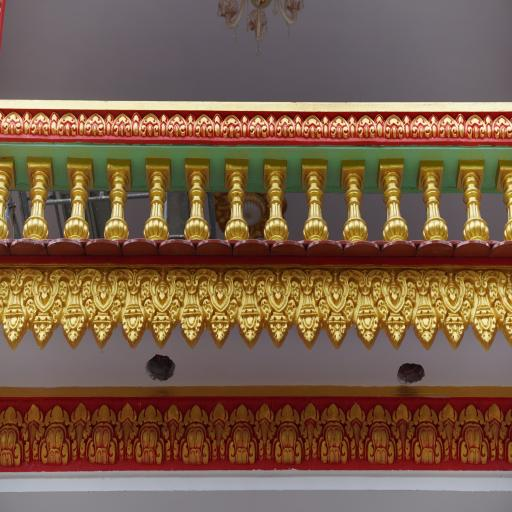la: (77, 267, 134, 350), (339, 271, 398, 348), (370, 268, 425, 350), (22, 268, 74, 353), (136, 269, 192, 345), (398, 265, 449, 348), (254, 270, 308, 348), (195, 268, 247, 348), (283, 269, 335, 348), (426, 271, 480, 347), (311, 268, 362, 348), (110, 266, 158, 350), (228, 267, 278, 346), (0, 263, 42, 354), (170, 268, 219, 346), (52, 269, 100, 347), (458, 266, 502, 349), (413, 402, 448, 466), (179, 401, 215, 463), (134, 402, 169, 464), (90, 402, 124, 464), (364, 403, 398, 464), (457, 401, 490, 463), (319, 401, 352, 461), (274, 403, 304, 463), (1, 400, 27, 469), (45, 404, 74, 464), (228, 403, 257, 461), (493, 271, 512, 347), (346, 400, 368, 460), (255, 400, 277, 459), (300, 401, 322, 458), (395, 397, 414, 460), (210, 399, 229, 459), (24, 401, 42, 463), (119, 398, 137, 458), (485, 401, 504, 457), (72, 400, 89, 459), (441, 401, 459, 456), (166, 402, 182, 457), (0, 111, 24, 137), (465, 112, 487, 139), (86, 111, 107, 138), (438, 111, 458, 138), (223, 111, 242, 139), (302, 113, 323, 138), (167, 112, 187, 138), (493, 112, 512, 139), (503, 404, 512, 460), (412, 112, 430, 138), (195, 115, 215, 138), (248, 113, 268, 136), (113, 113, 132, 137), (142, 111, 161, 134), (32, 110, 50, 134), (330, 115, 350, 136), (274, 117, 296, 136), (358, 114, 377, 136), (386, 113, 402, 139), (61, 114, 78, 137), (428, 112, 438, 139), (347, 114, 358, 138), (456, 112, 466, 138), (484, 113, 494, 138), (22, 112, 34, 132), (374, 113, 384, 137), (402, 112, 411, 138), (50, 110, 60, 133), (186, 113, 196, 136), (160, 109, 168, 135), (213, 113, 222, 136), (133, 113, 141, 136), (322, 115, 330, 137), (106, 115, 114, 135), (296, 111, 302, 137), (79, 111, 85, 135), (242, 112, 248, 136), (268, 115, 275, 135)
